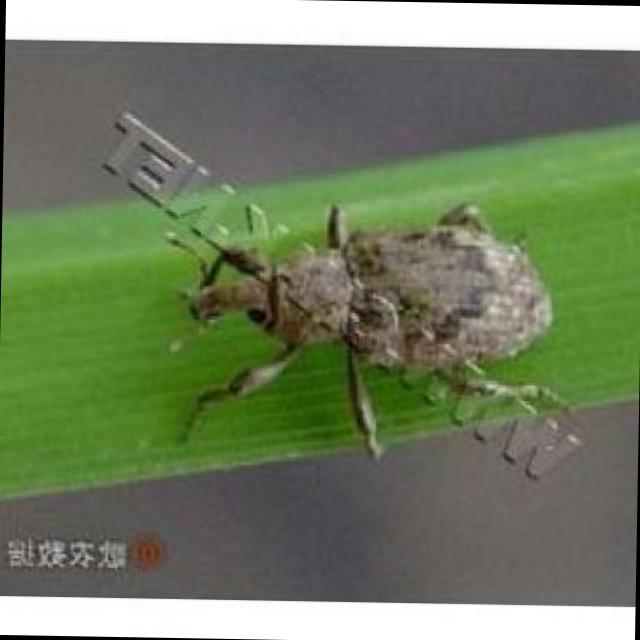rice-bug: (182, 196, 554, 440)
